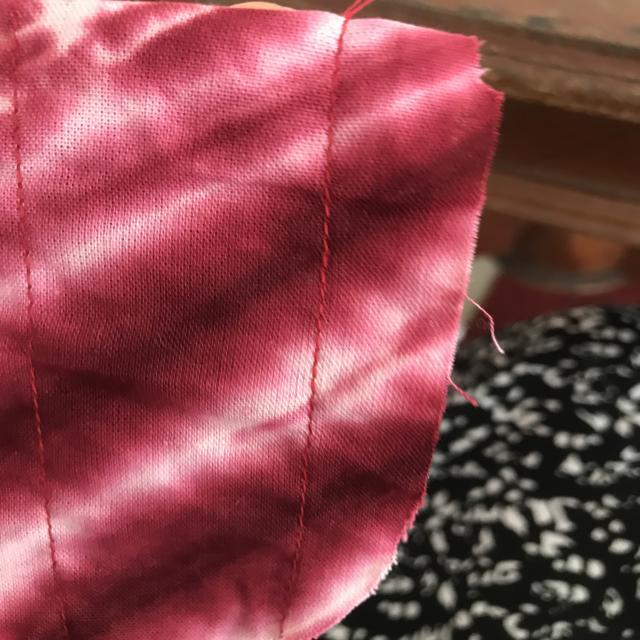good: (299, 218, 360, 288), (24, 396, 66, 474), (302, 335, 345, 404), (292, 490, 310, 540)
